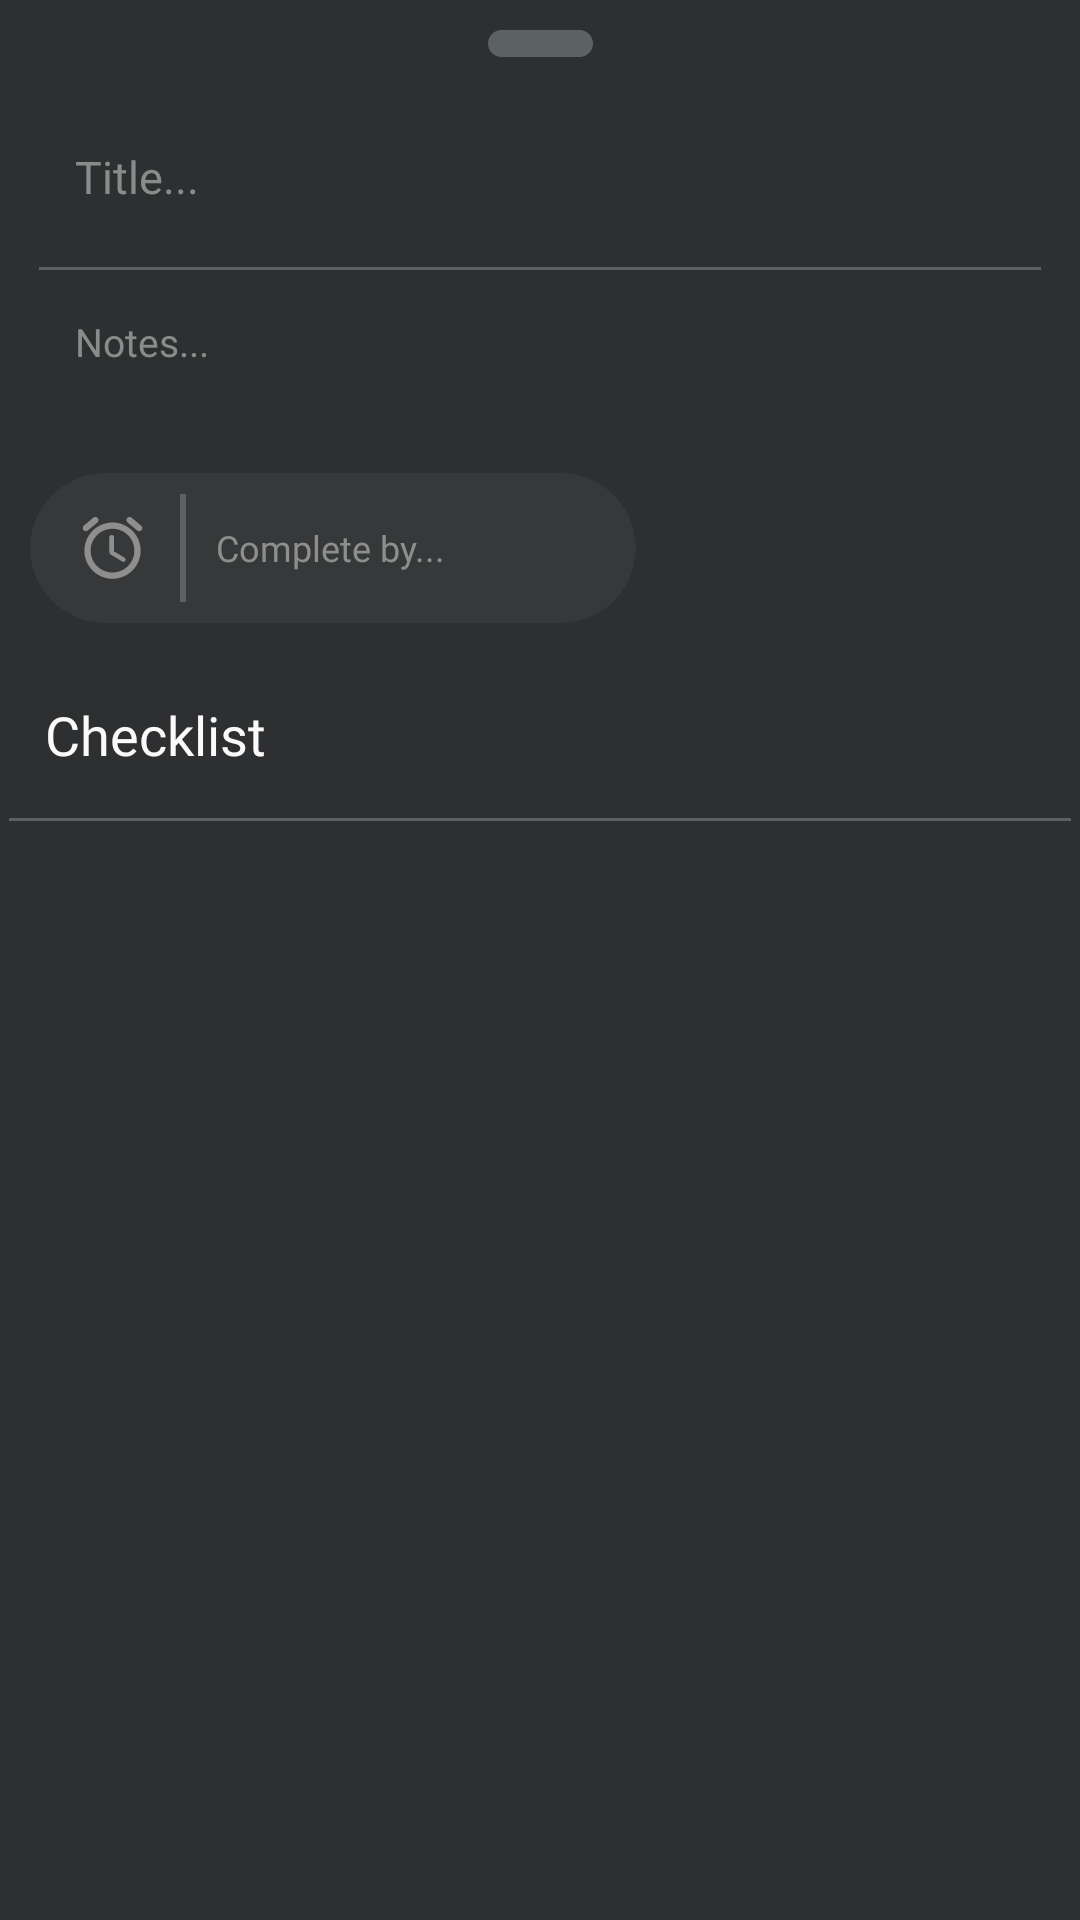

Point at icon controls on the screen. Image size 1080*1920, points as point (x, y).
alarm: point (112, 548)
